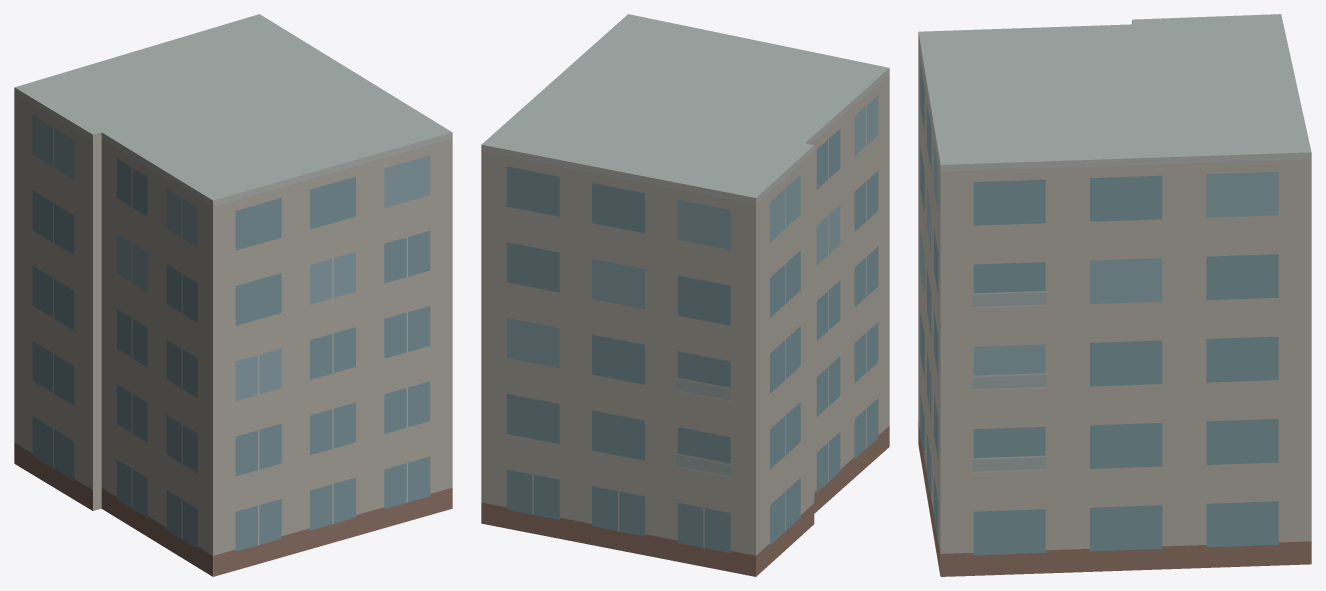
The model's file is survey-upis-32993758.glb.
3 renders of one model, left to right at view 1: azimuth 30°, elevation 25°; view 2: azimuth 150°, elevation 25°; view 3: azimuth 270°, elevation 25°, orthographic. The views are drawn at different scales.
Visible parts, largest first — view 1: survey-upis-32993758.tmp; view 2: survey-upis-32993758.tmp; view 3: survey-upis-32993758.tmp.
Boxes of the visible parts, x1=… form: survey-upis-32993758.tmp: x1=14, y1=14, x2=452, y2=576; survey-upis-32993758.tmp: x1=481, y1=14, x2=889, y2=576; survey-upis-32993758.tmp: x1=918, y1=14, x2=1311, y2=576.
Size of the model in its own units: 11.48 by 14.6 by 12.64.
